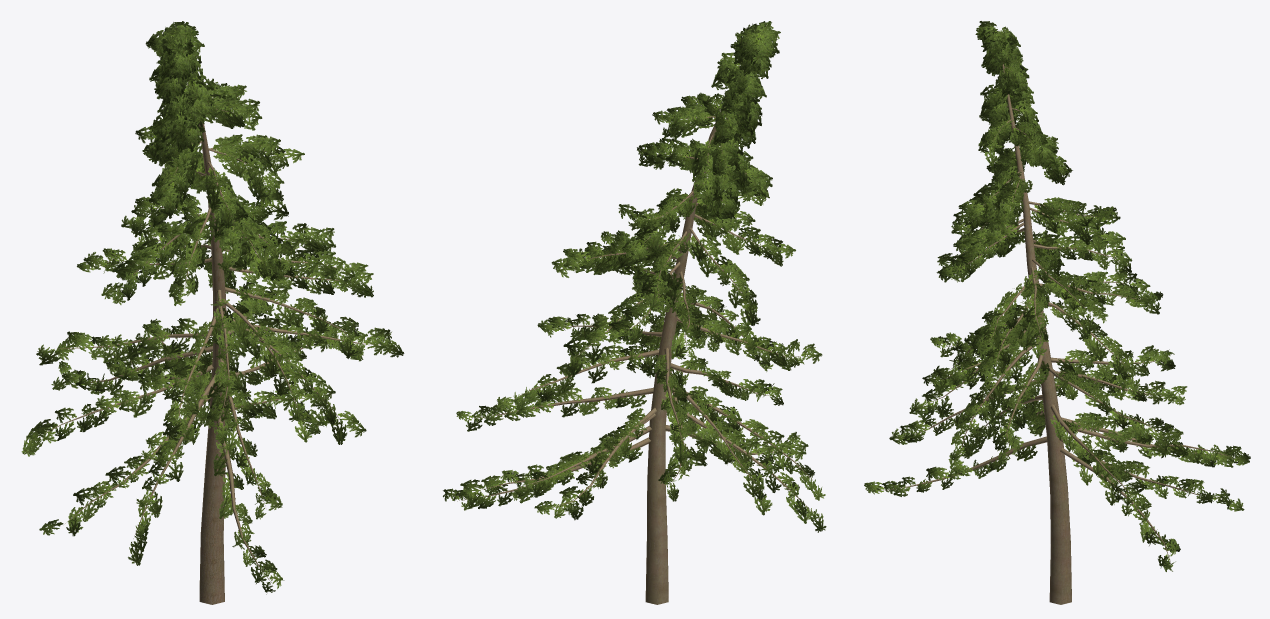
File: ez-pine-02-near.glb
The picture shows the model from 3 angles, left to right: view 1: azimuth 30°, elevation 25°; view 2: azimuth 150°, elevation 25°; view 3: azimuth 270°, elevation 25°; orthographic projection. The views are drawn at different scales.
Parts seen in each view (by area): view 1: leaves, branches; view 2: leaves, branches; view 3: leaves, branches.
Part boxes in pixels (x1,y1,x2,y2): leaves: (21,21,404,594); branches: (33,33,379,604); leaves: (443,21,826,532); branches: (457,37,812,604); leaves: (864,21,1250,571); branches: (883,31,1236,604).
Bounding box in the file's own units: 29.79 × 49.61 × 32.36.
2 materials, 2 textured.
